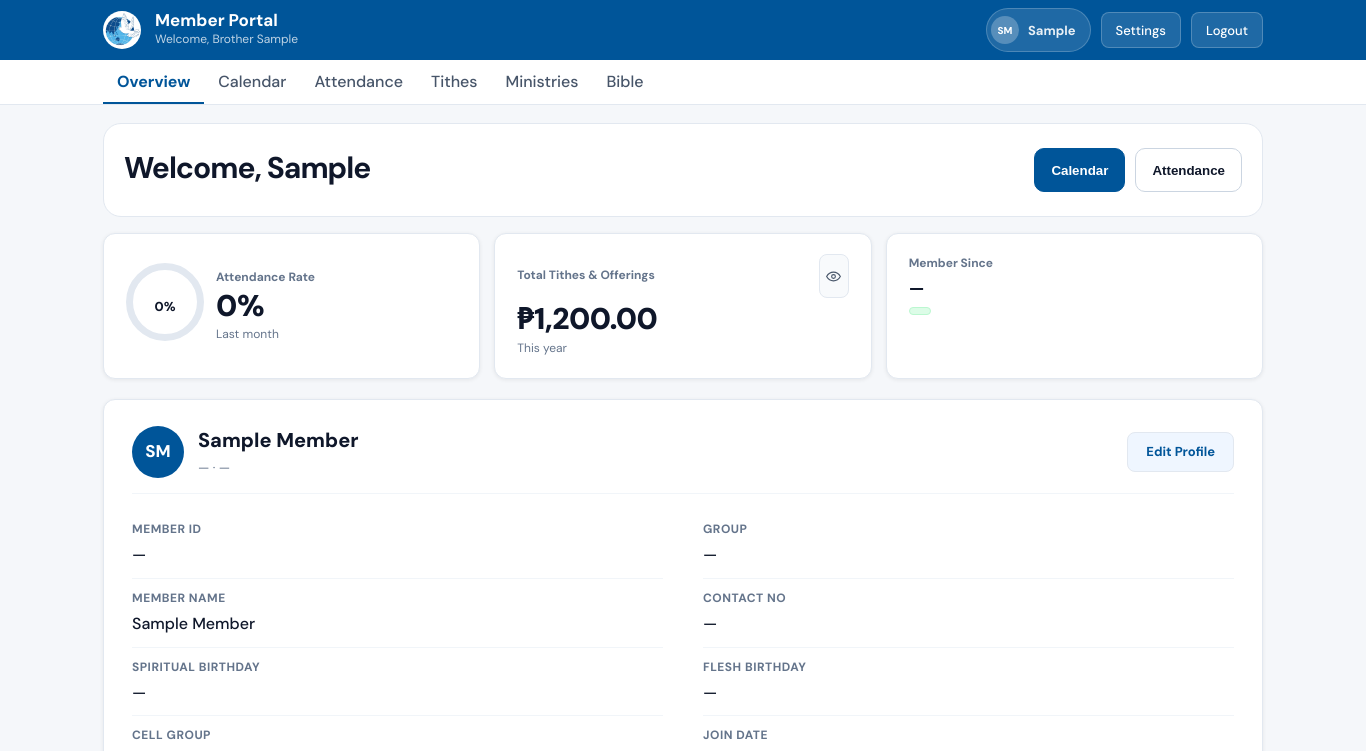
Test: hides the giving total on the overview with the same eye control
The width and height of the screenshot is (1366, 751).
Expected: the text "₱1,200.00" is shown, x1=517 y1=299 x2=657 y2=338
Click the button named "Hide amounts". click: coordinates (834, 276)
box: x1=819 y1=254 x2=849 y2=298
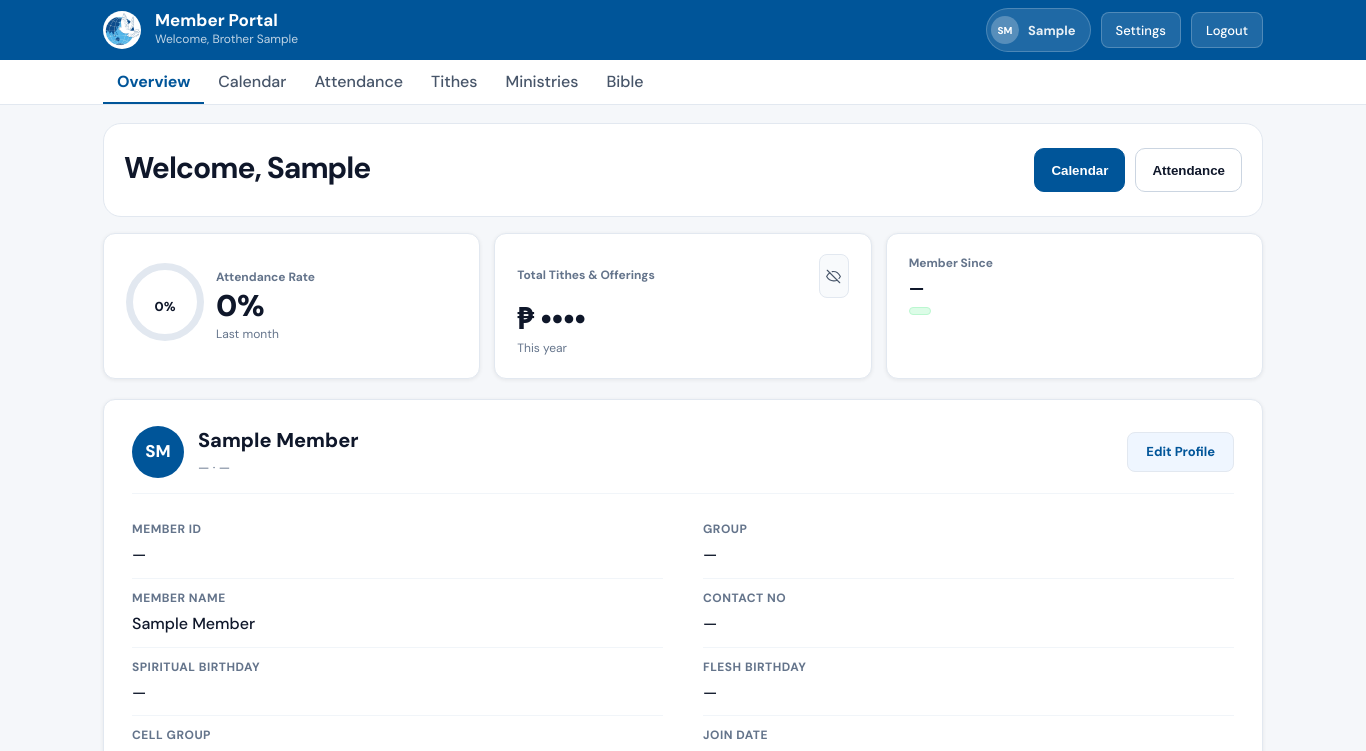
Now the text "₱ ••••" is shown, box x1=517 y1=299 x2=586 y2=338
Now the text "₱1,200.00" is gone
